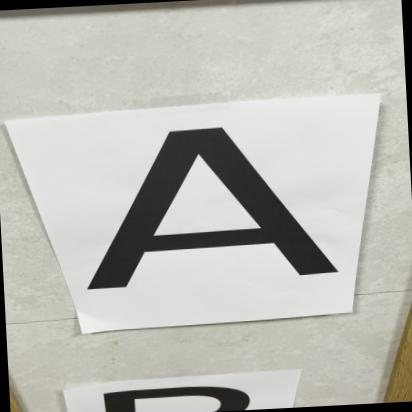seat: (57, 97, 356, 299)
